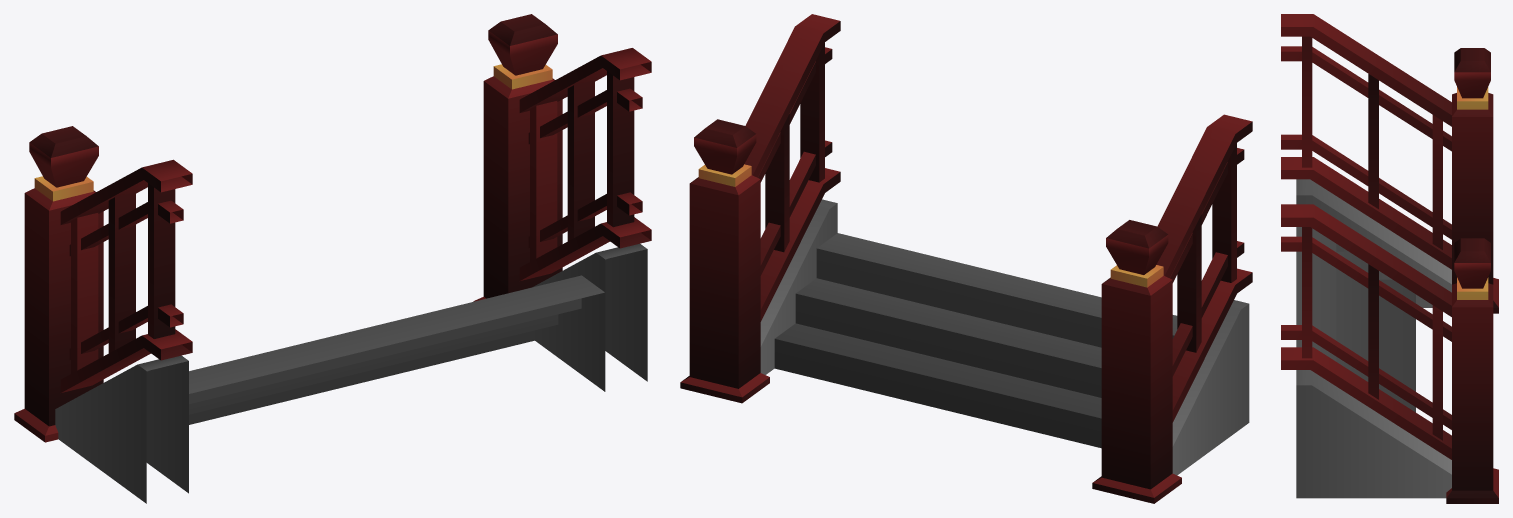
The model's file is stair_railing.glb.
3 renders of one model, left to right at view 1: azimuth 30°, elevation 25°; view 2: azimuth 150°, elevation 25°; view 3: azimuth 270°, elevation 25°, orthographic. The views are drawn at different scales.
Parts seen in each view (by area): view 1: Object_2; view 2: Object_2; view 3: Object_2.
Boxes of the visible parts, left/top/right/bottom form: Object_2: left=14, top=14, right=651, bottom=503; Object_2: left=680, top=14, right=1252, bottom=503; Object_2: left=1281, top=14, right=1498, bottom=503.
Bounding box in the file's own units: 2.54 × 1.51 × 1.07.
1 material, 1 textured.
